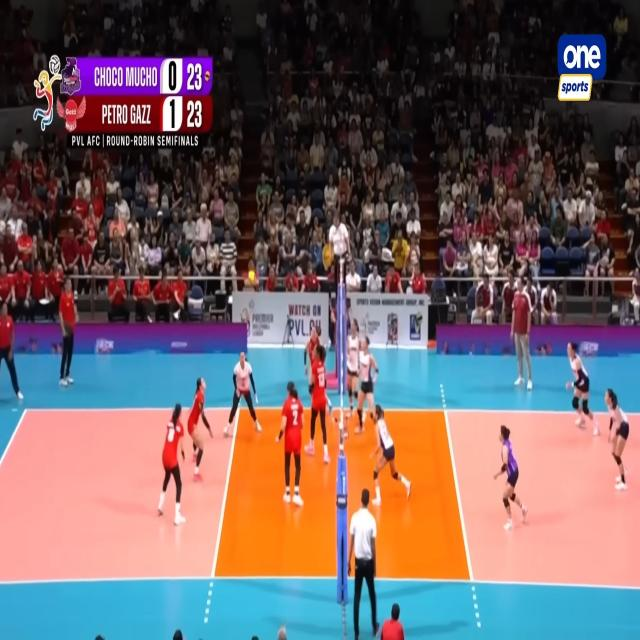Volleyball-Ball: (248, 270, 256, 284)
